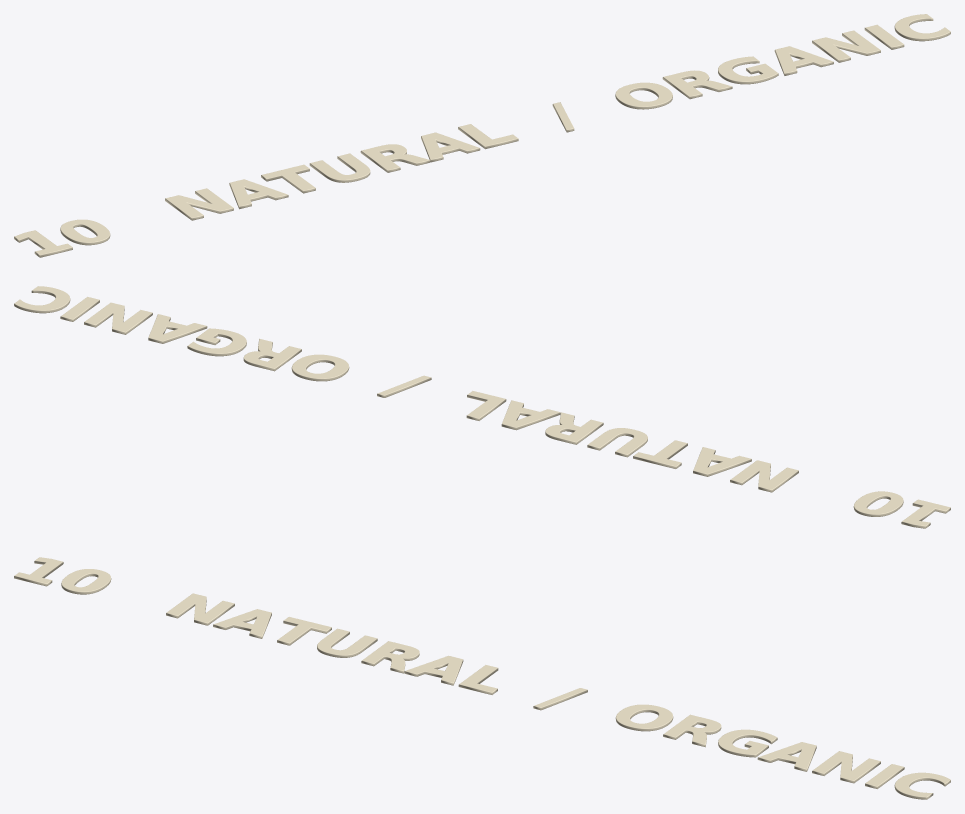
File: SM_EG_Aisle_designation_09a042d4e6.fbx
3 views of the same model, one above another, from view 1: azimuth 30°, elevation 25°; view 2: azimuth 150°, elevation 25°; view 3: azimuth 330°, elevation 25° (orthographic).
Visible parts, largest first — view 1: SM_EG_Aisle_designation_09a042d4e6; view 2: SM_EG_Aisle_designation_09a042d4e6; view 3: SM_EG_Aisle_designation_09a042d4e6.
Boxes of the visible parts, left/top/right/bottom form: SM_EG_Aisle_designation_09a042d4e6: left=14, top=14, right=950, bottom=257; SM_EG_Aisle_designation_09a042d4e6: left=14, top=286, right=950, bottom=528; SM_EG_Aisle_designation_09a042d4e6: left=14, top=557, right=950, bottom=799.
Bounding box in the file's own units: 146 × 8.54 × 0.44.
